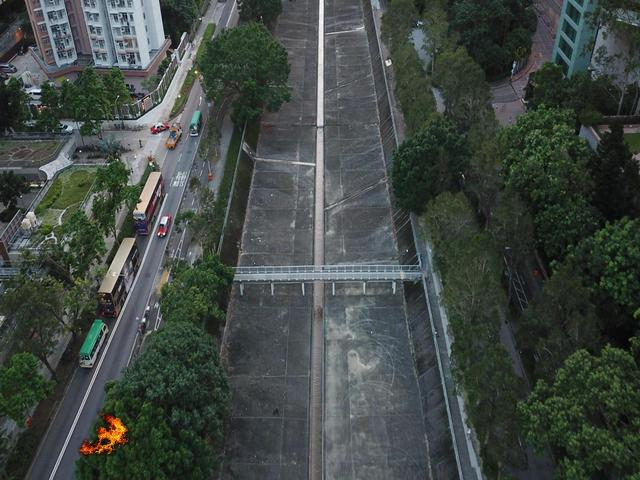fire: (76, 409, 133, 461)
